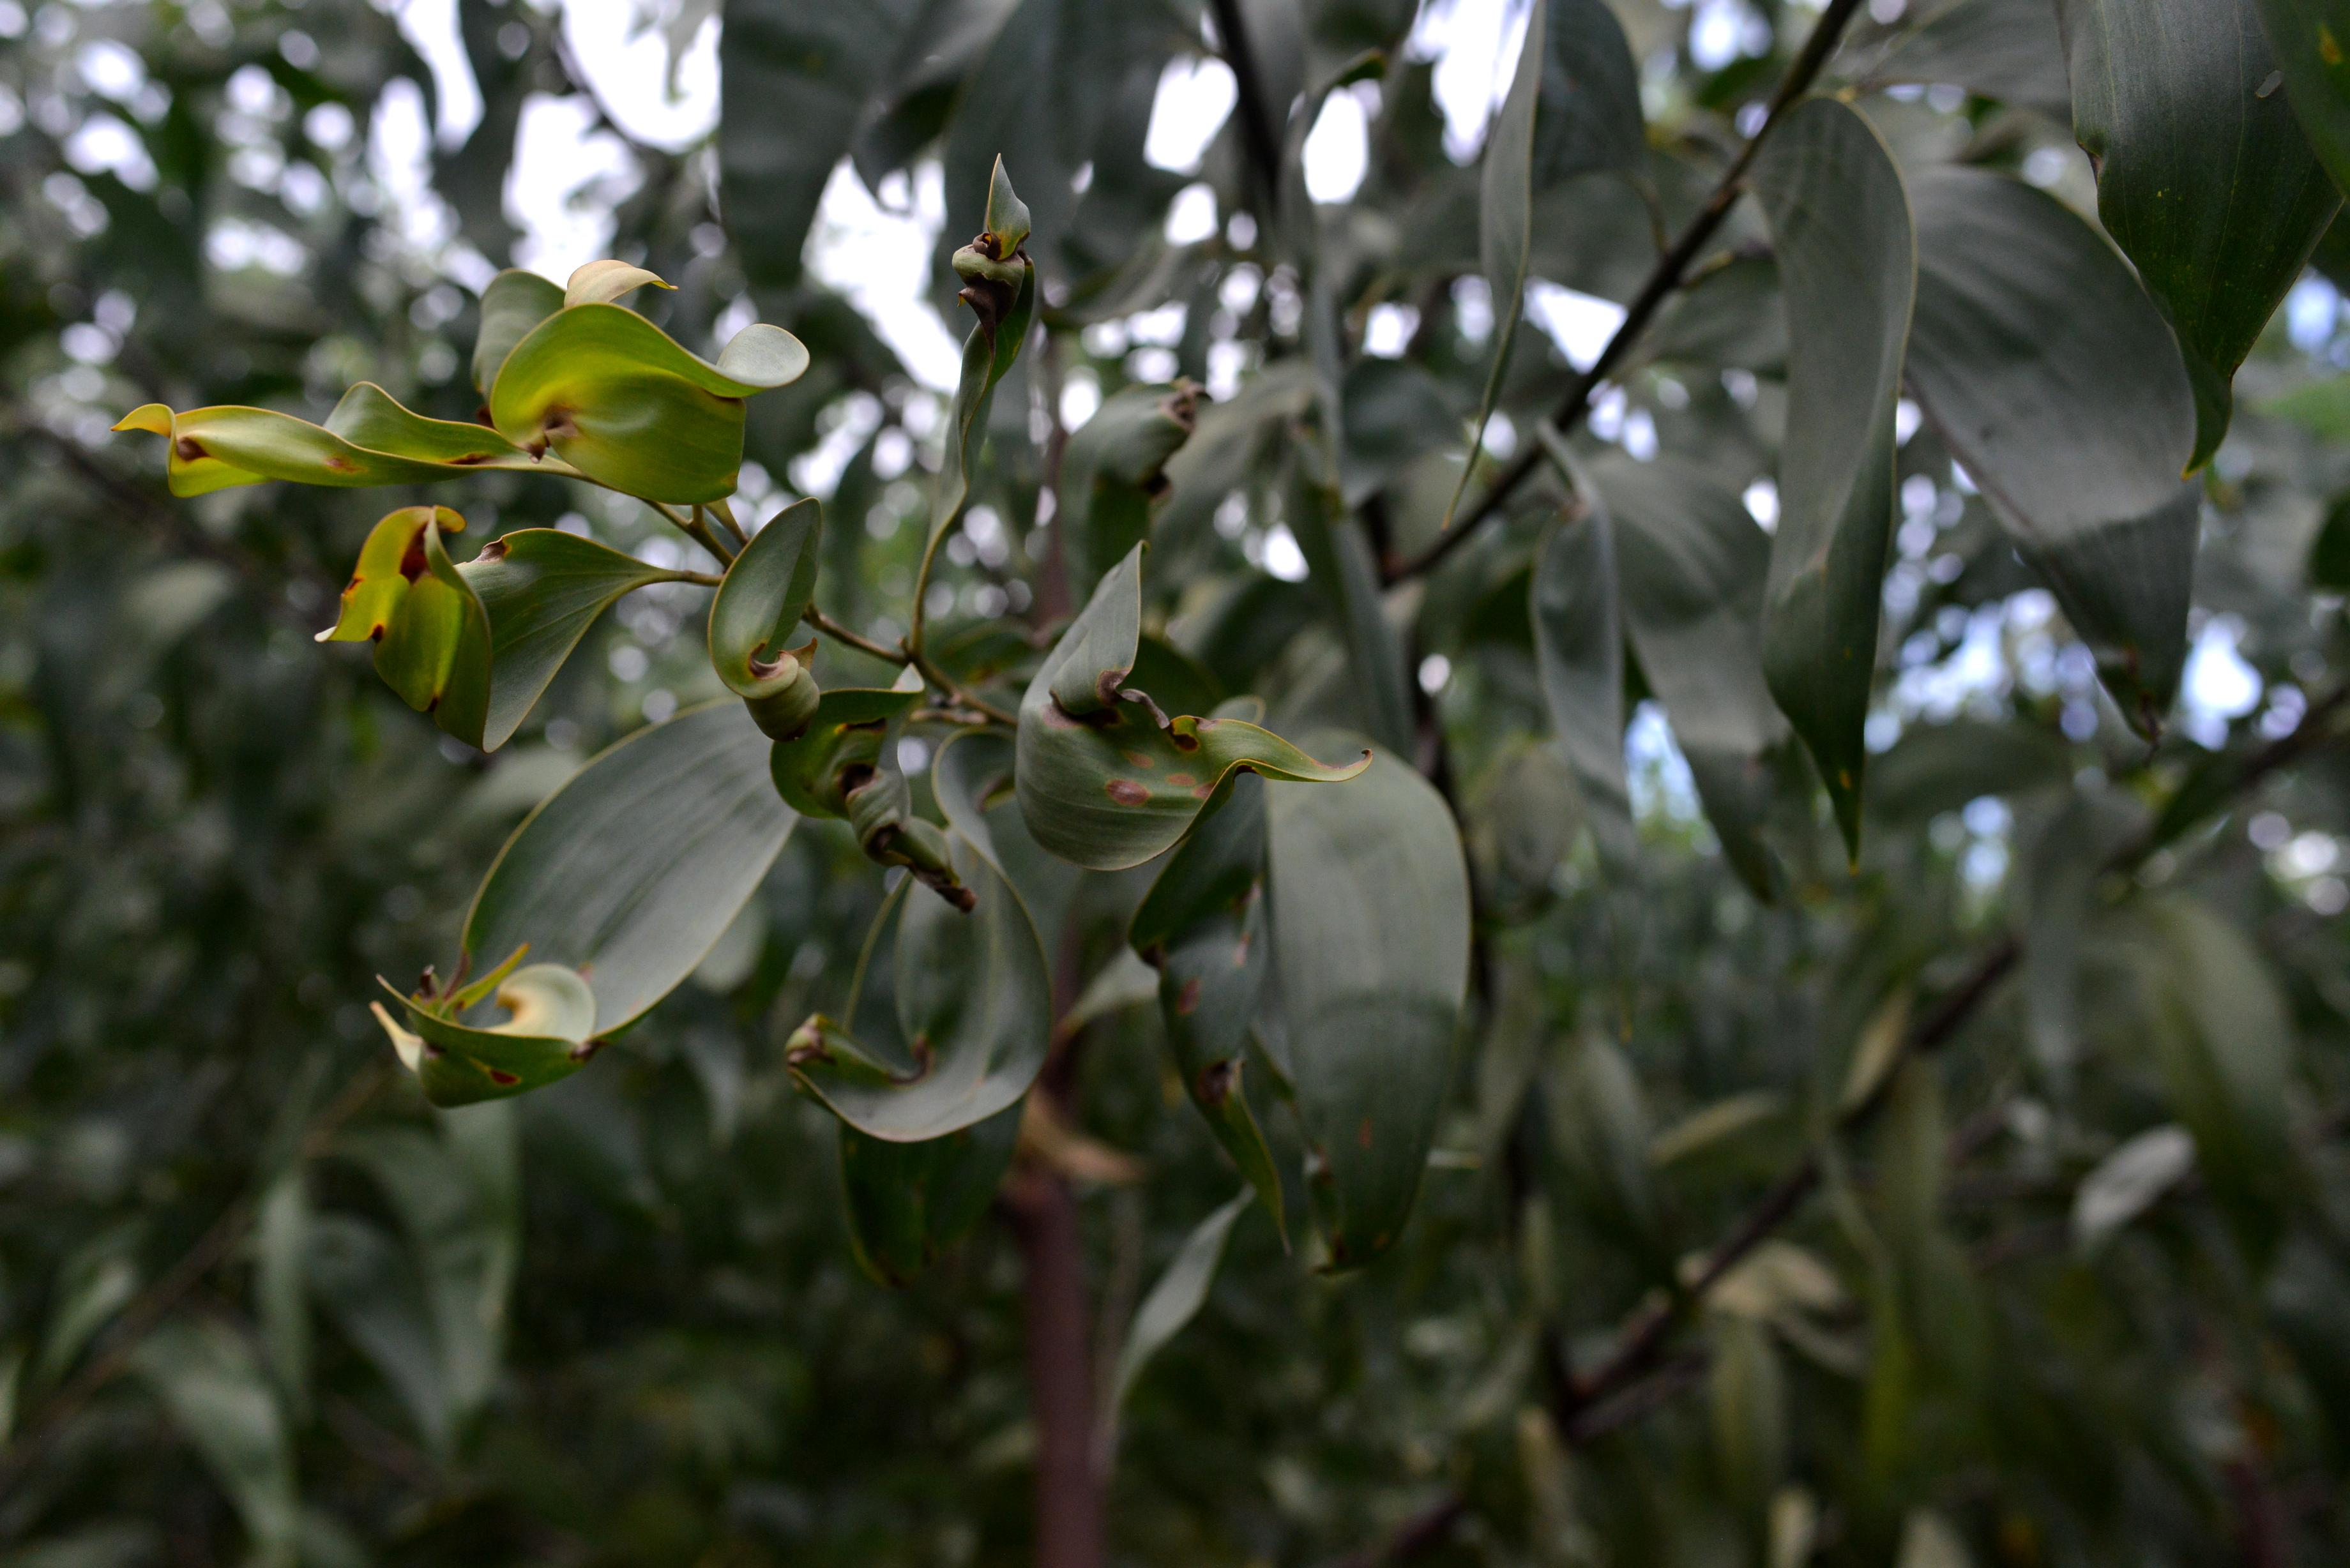Pasalora: (131, 262, 798, 520), (1925, 178, 2207, 751), (394, 735, 765, 1115), (1718, 91, 1897, 870), (997, 560, 1363, 885), (1437, 0, 1652, 472), (1269, 908, 1470, 1309), (826, 898, 1067, 1216), (304, 521, 630, 728), (913, 142, 1048, 544), (768, 695, 990, 929), (1134, 891, 1270, 1262), (1535, 472, 1661, 836), (639, 530, 859, 730)
